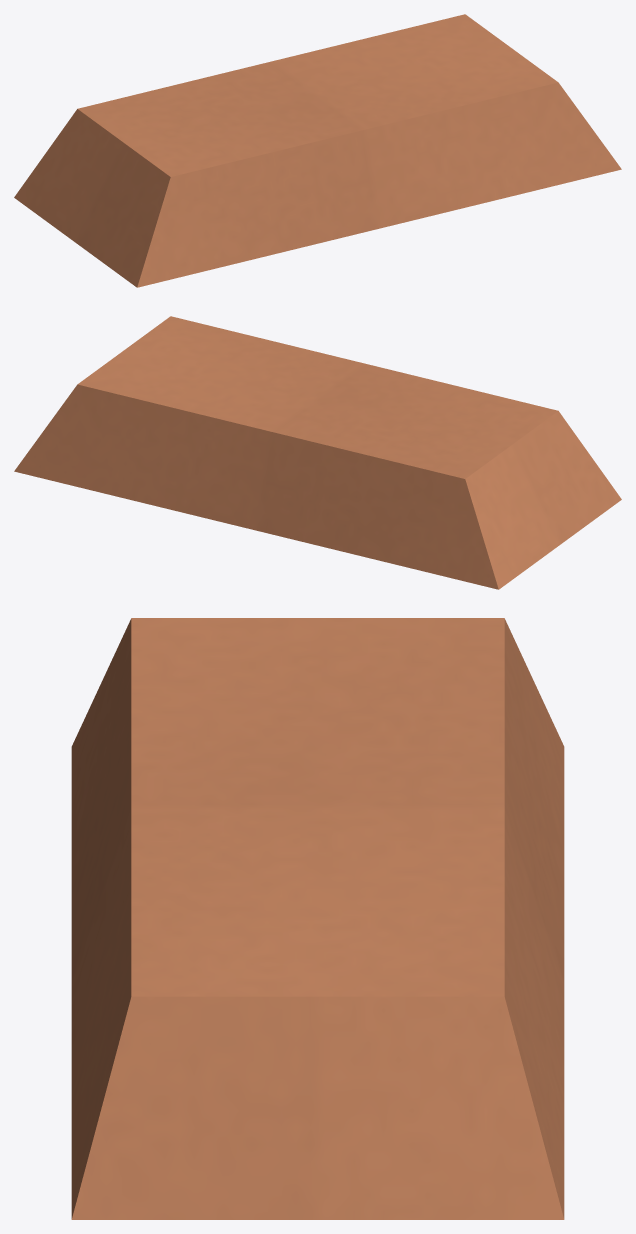
The model's file is ingot_copper.glb.
3 views of the same model, one above another, from view 1: azimuth 30°, elevation 25°; view 2: azimuth 150°, elevation 25°; view 3: azimuth 270°, elevation 25° (orthographic). The views are drawn at different scales.
Parts seen in each view (by area): view 1: cast copper ingot; view 2: cast copper ingot; view 3: cast copper ingot.
Boxes of the visible parts, x1,y1,x2,y2 form: cast copper ingot: (14,14,621,287); cast copper ingot: (14,316,621,589); cast copper ingot: (71,618,564,1219).
Bounding box in the file's own units: 0.15 × 0.026 × 0.066.
1 material, 1 textured.
